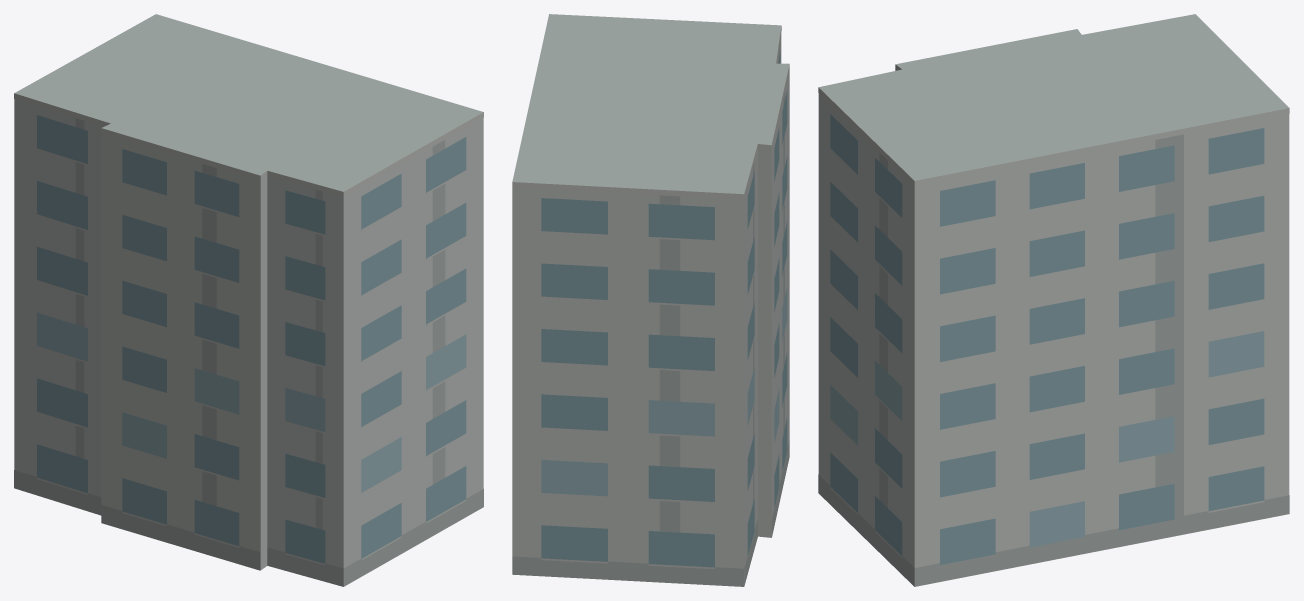
File: survey-upis-32994076.glb
3 views of the same model, side by side, from view 1: azimuth 30°, elevation 25°; view 2: azimuth 150°, elevation 25°; view 3: azimuth 270°, elevation 25° (orthographic). The views are drawn at different scales.
Parts seen in each view (by area): view 1: survey-upis-32994076.tmp; view 2: survey-upis-32994076.tmp; view 3: survey-upis-32994076.tmp.
Boxes of the visible parts, x1=… form: survey-upis-32994076.tmp: x1=14, y1=14, x2=483, y2=586; survey-upis-32994076.tmp: x1=512, y1=14, x2=789, y2=586; survey-upis-32994076.tmp: x1=818, y1=14, x2=1289, y2=586.
Bounding box in the file's own units: 15.09 × 17.1 × 17.99.
